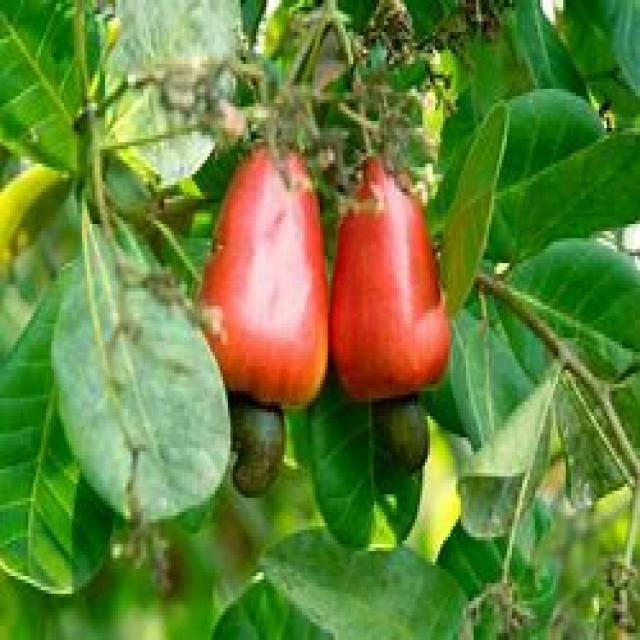cashew: (216, 406, 328, 490), (366, 394, 438, 484)
